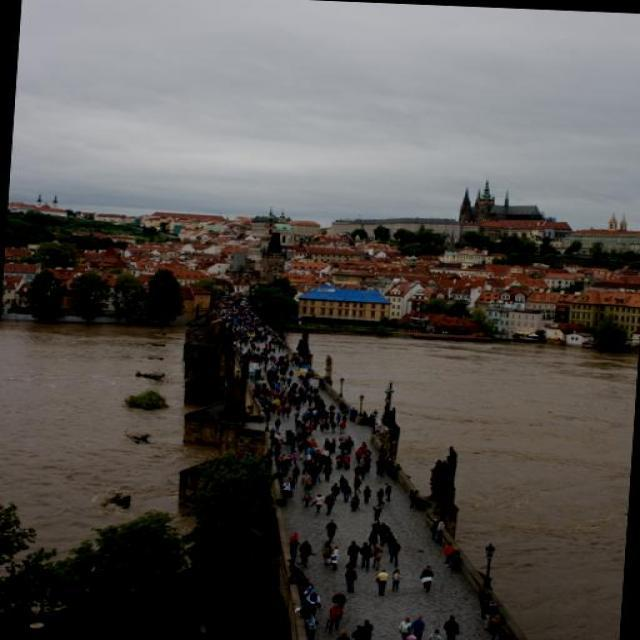flood: (0, 312, 639, 639)
